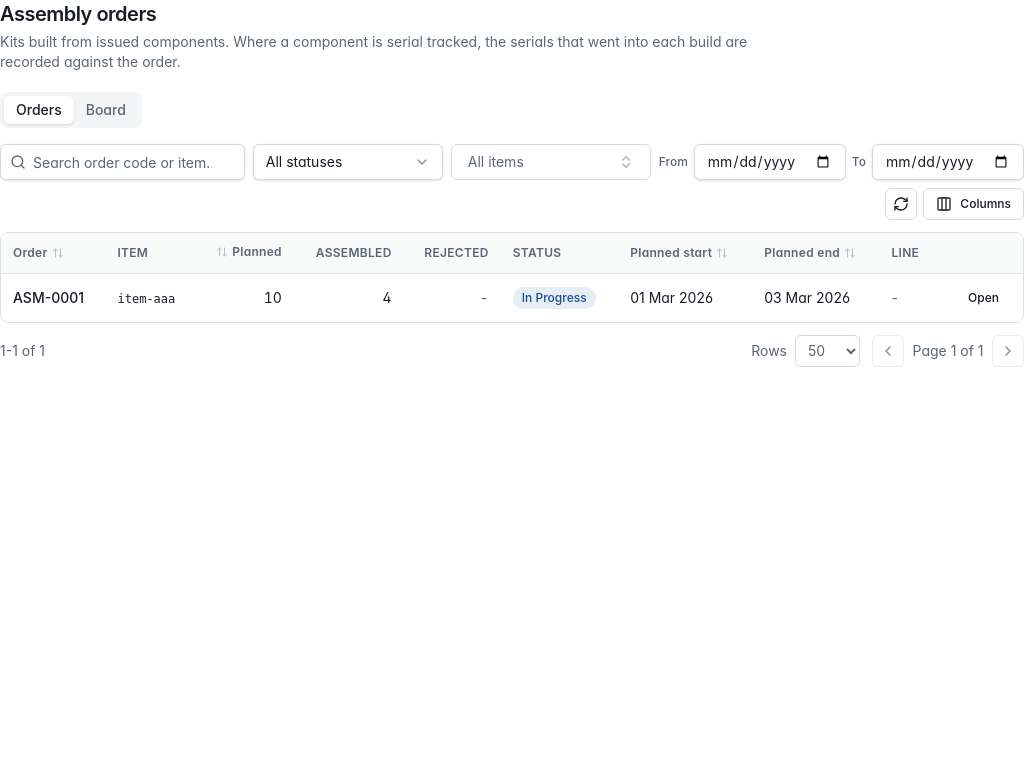
what the order panel offers, status by status › offers completion from IN_PROGRESS - to someone holding assembly.complete
This screenshot has width=1024, height=768.
Expected: the button "ASM-0001" is shown, [13,288,84,308]
Click the button "Open" at [984, 298], box [956,282,1011,314]
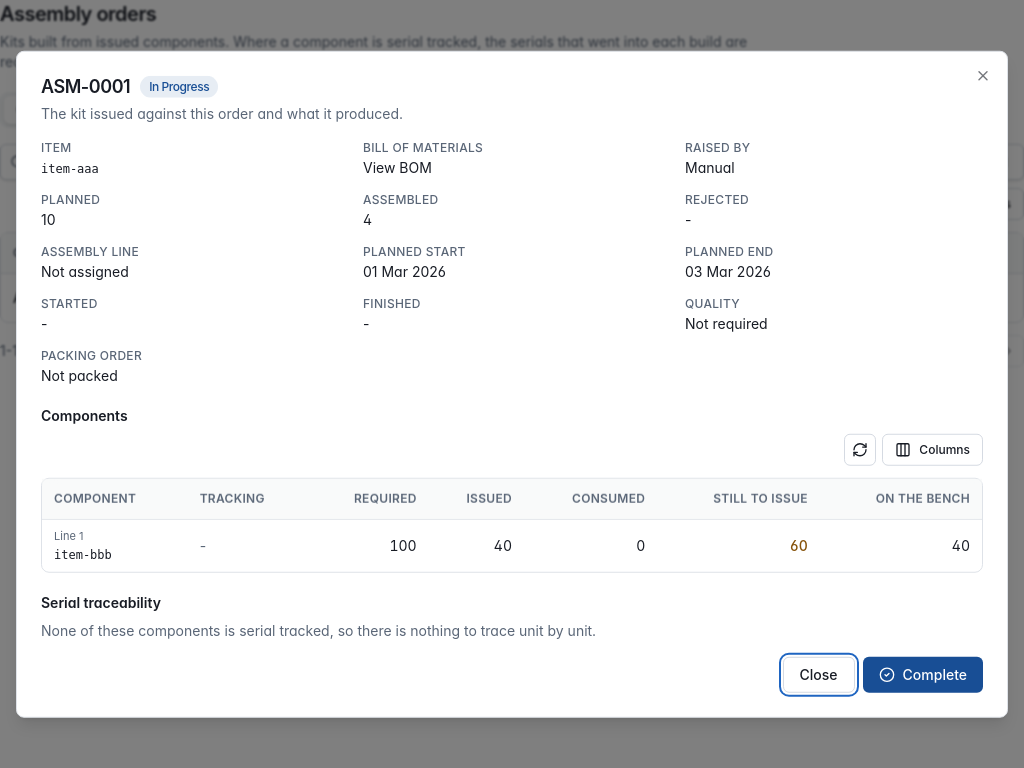
Now the dialog is shown
Now the button "Complete" is shown, box [863,656,983,692]
